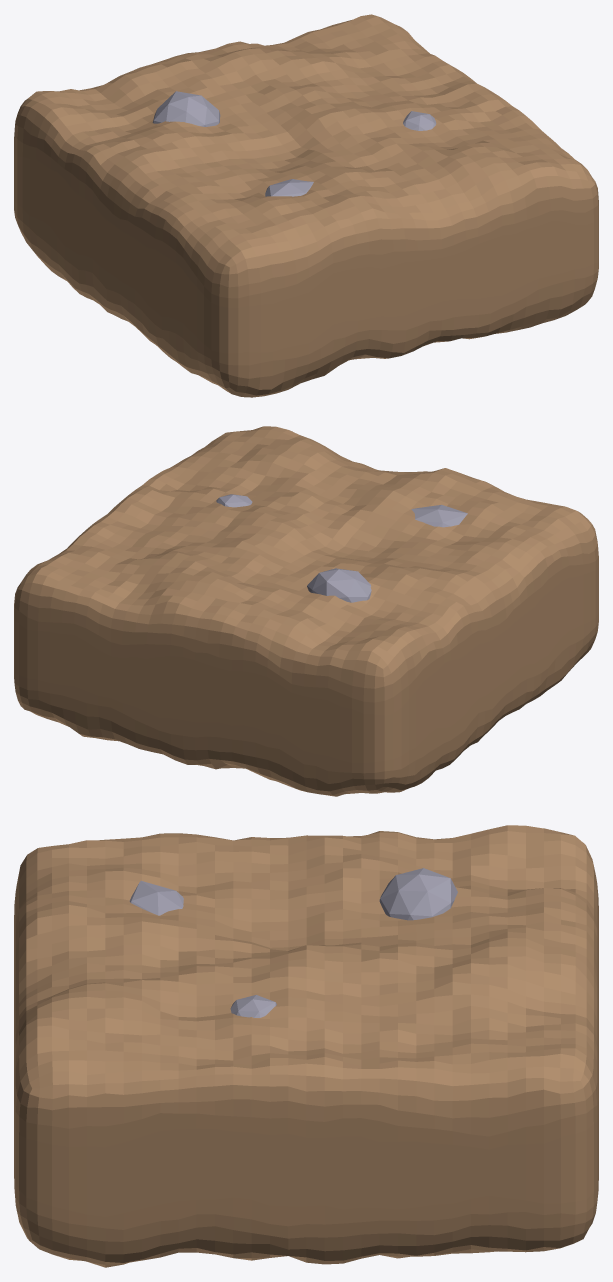
File: dirt.fbx
3 renders of one model, top to bottom at view 1: azimuth 30°, elevation 25°; view 2: azimuth 150°, elevation 25°; view 3: azimuth 270°, elevation 25°, orthographic. The views are drawn at different scales.
Parts seen in each view (by area): view 1: Cube, Icosphere.001, Icosphere, Icosphere.002; view 2: Cube, Icosphere.001, Icosphere; view 3: Cube, Icosphere.001, Icosphere, Icosphere.002.
Part boxes in pixels (left/top/right/bottom): Cube: left=14, top=14, right=598, bottom=397; Icosphere.001: left=152, top=91, right=220, bottom=126; Icosphere: left=265, top=179, right=313, bottom=196; Icosphere.002: left=403, top=111, right=436, bottom=130; Cube: left=14, top=426, right=598, bottom=796; Icosphere.001: left=307, top=568, right=371, bottom=602; Icosphere: left=411, top=504, right=467, bottom=527; Cube: left=14, top=825, right=598, bottom=1267; Icosphere.001: left=379, top=868, right=457, bottom=920; Icosphere: left=129, top=880, right=183, bottom=915; Icosphere.002: left=230, top=995, right=276, bottom=1017.
Size of the model in its own units: 200 by 91.06 by 200.
